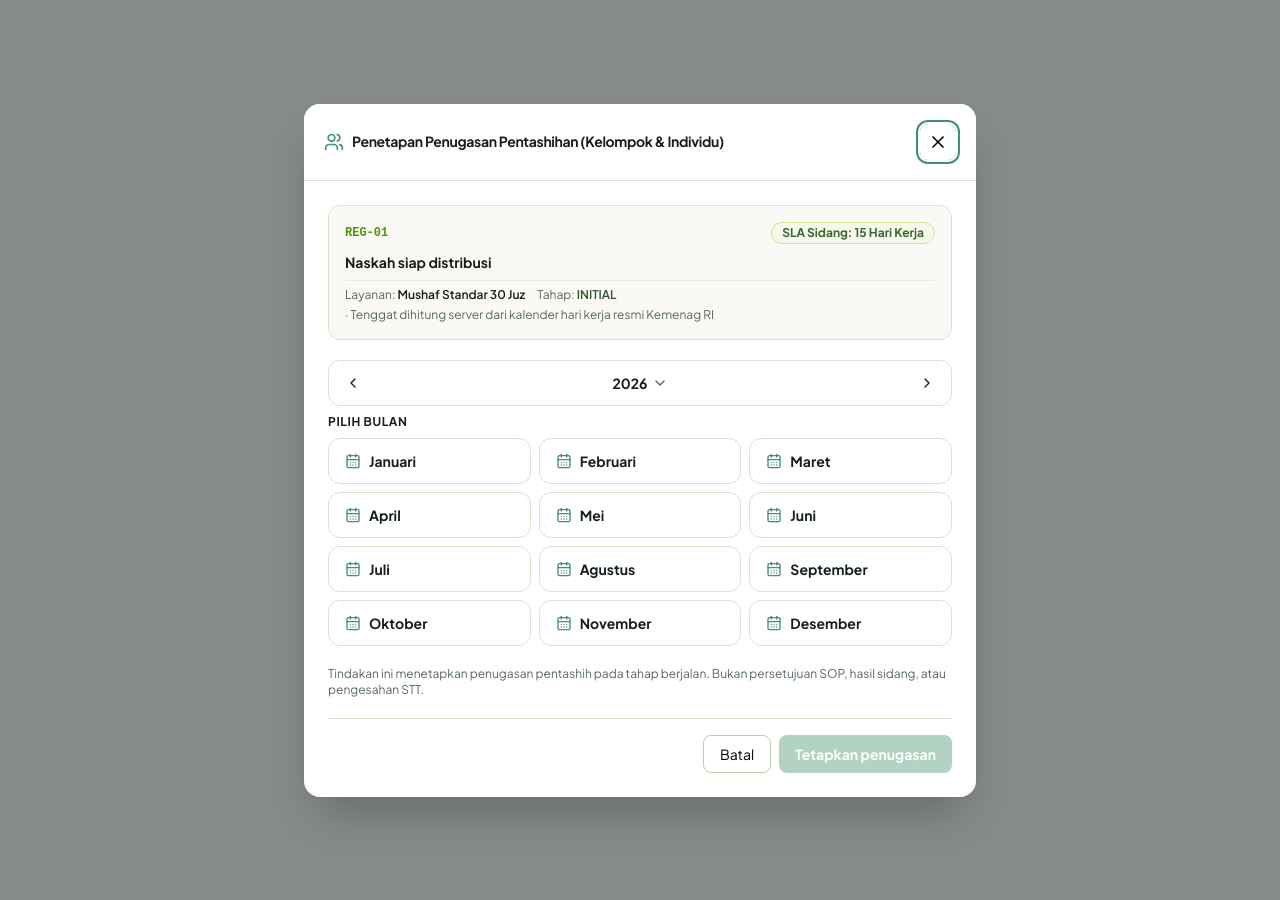
Scenario: Manual team assignment (B-05) › filters pentashih with search box
Expected: the text "Naskah siap distribusi" is shown, [345,252,492,270]
Click the button "Januari".
click(429, 460)  # box [328,438,531,484]
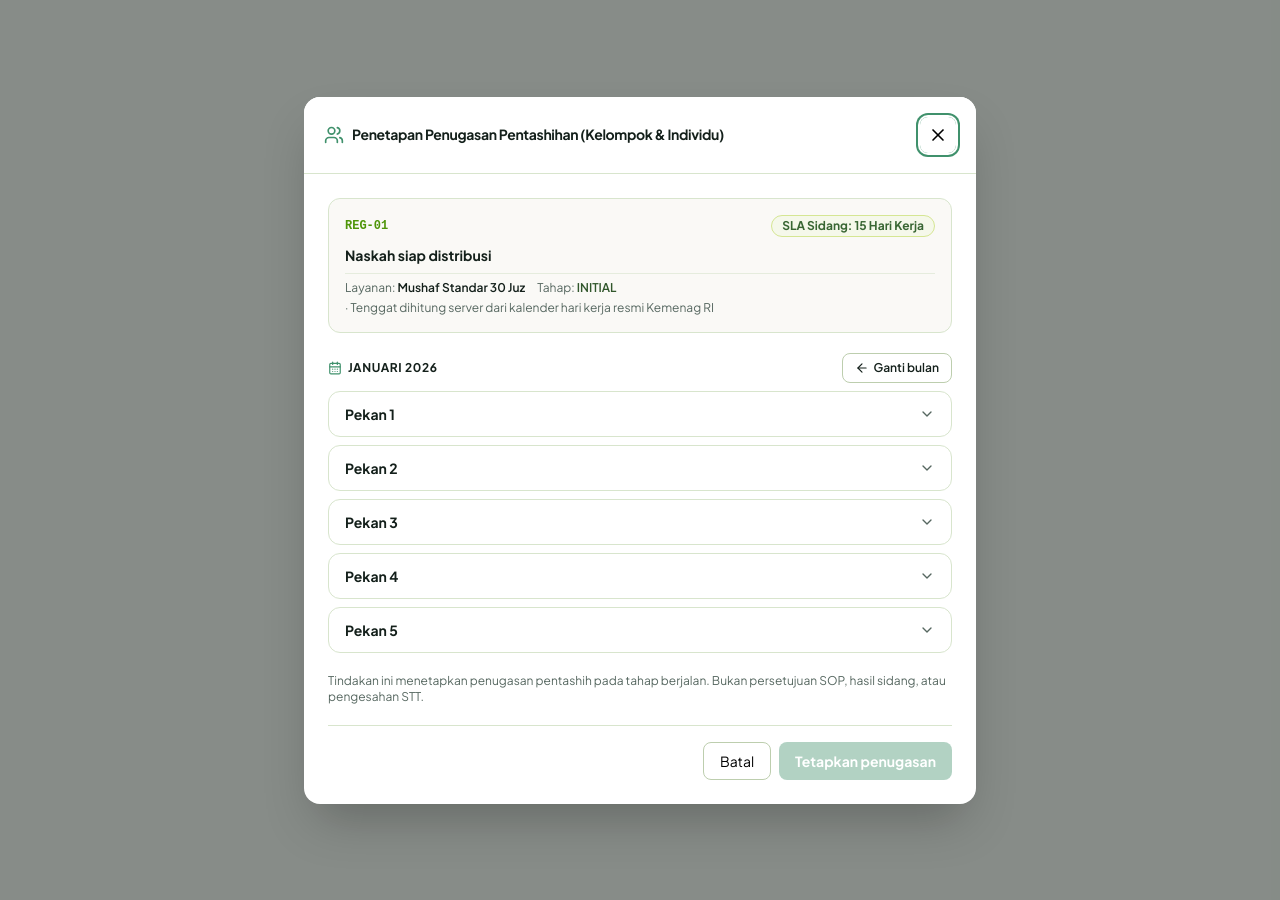
Click the button "Pekan 1".
click(367, 414)  # box [329,392,951,436]
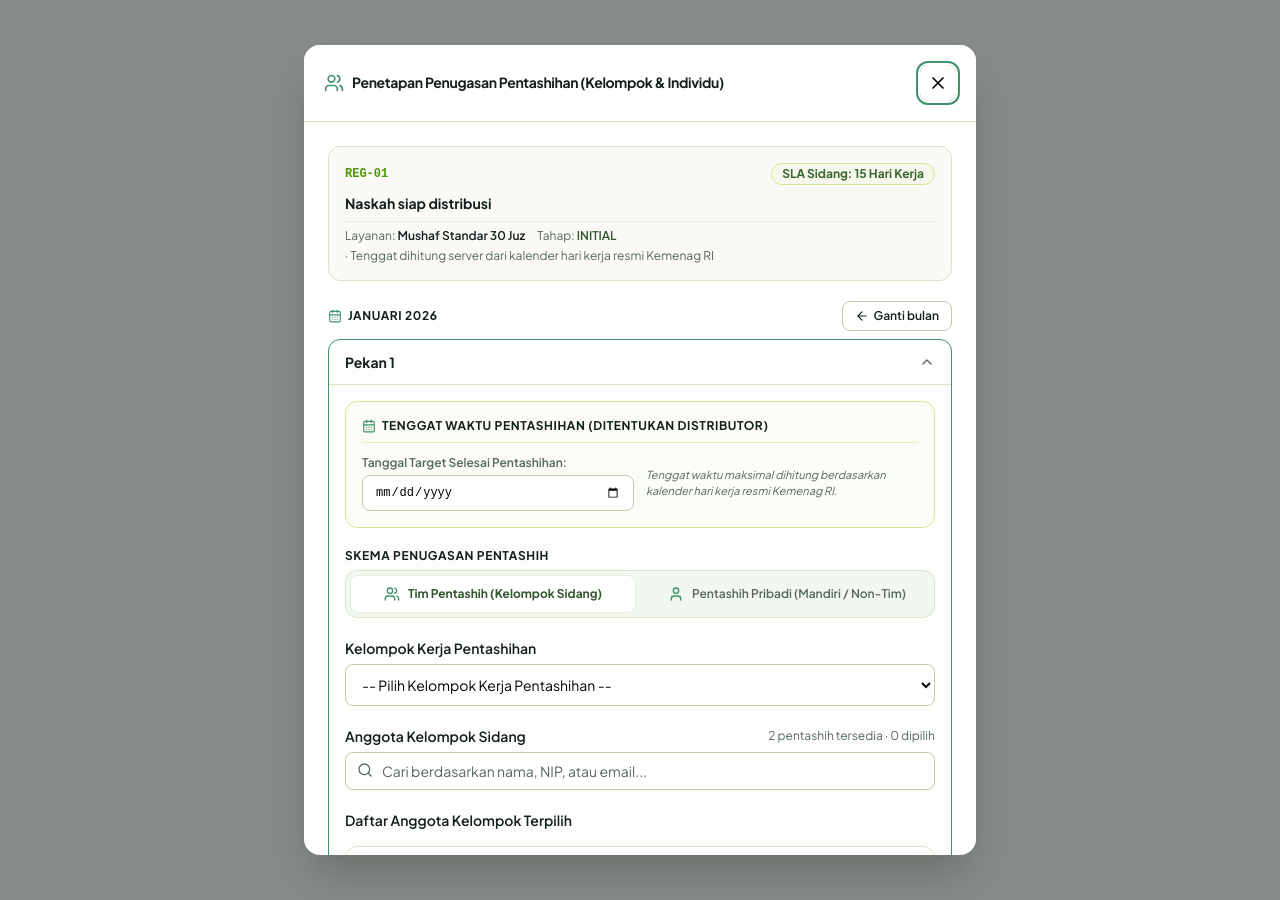
Select "Kelompok Reguler · NOMOR-01" in the dropdown labelled "Kelompok Kerja Pentashihan" at (640, 685), box [345,664,935,706]
(page scrolled)
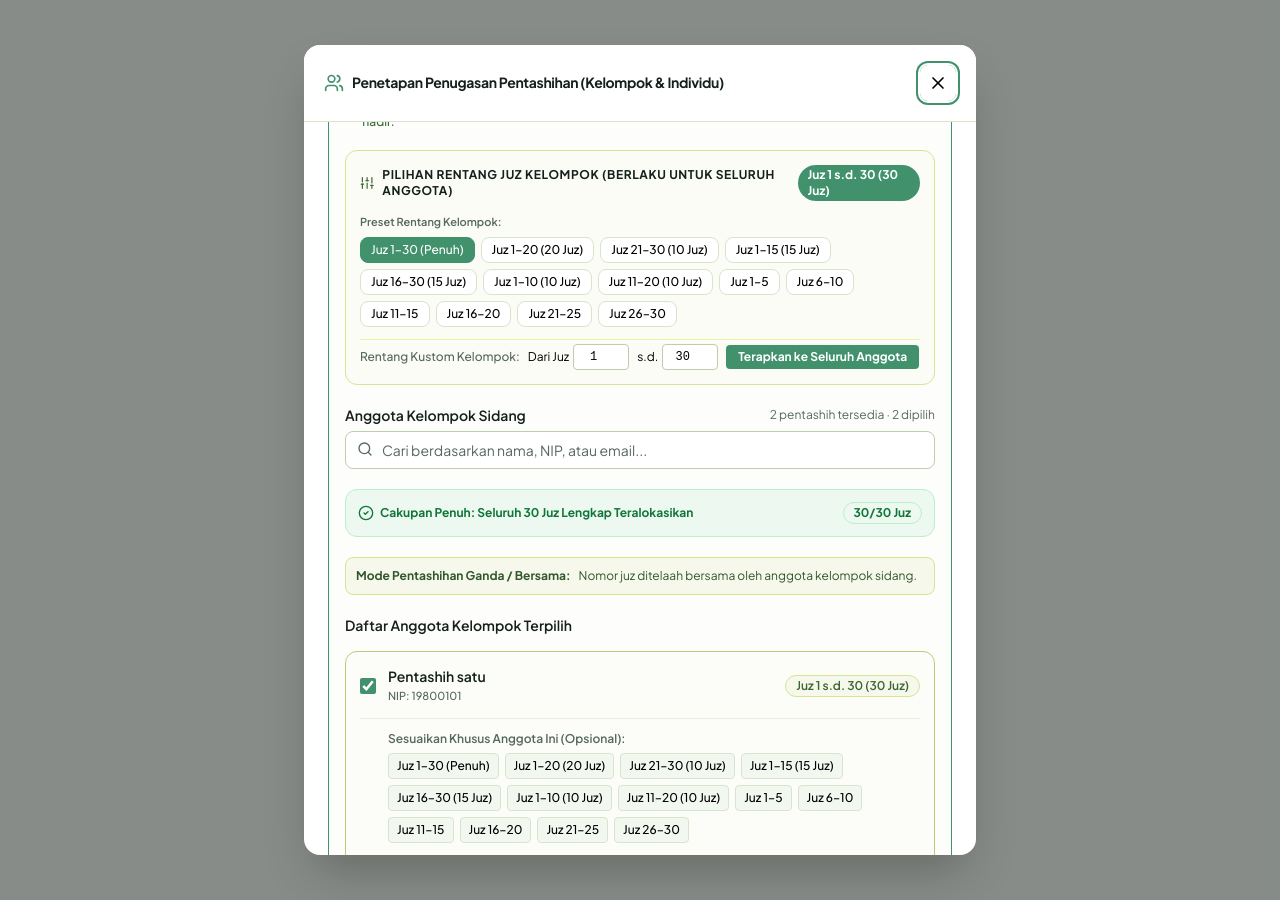
Expected: the text "Pentashih satu" is shown, [388,667,486,685]
Note: Filter pencarian "dua"
Type "dua" into the field with placeholder "Cari berdasarkan nama, NIP, atau email...".
click(640, 450); type("dua")  # box [345,431,935,469]
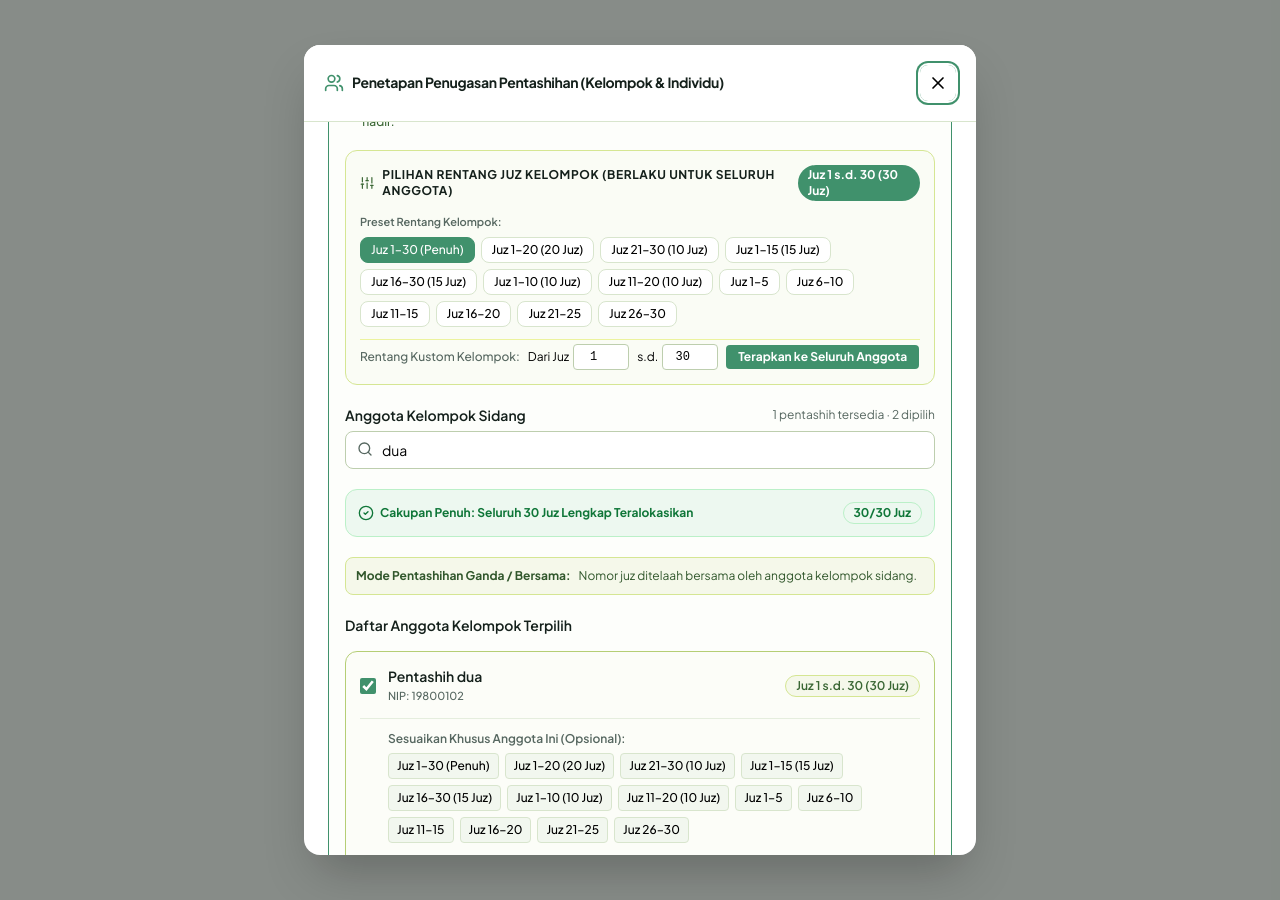
Expected: the text "Pentashih satu" is gone
Expected: the text "Pentashih dua" is shown, [388,667,482,685]
